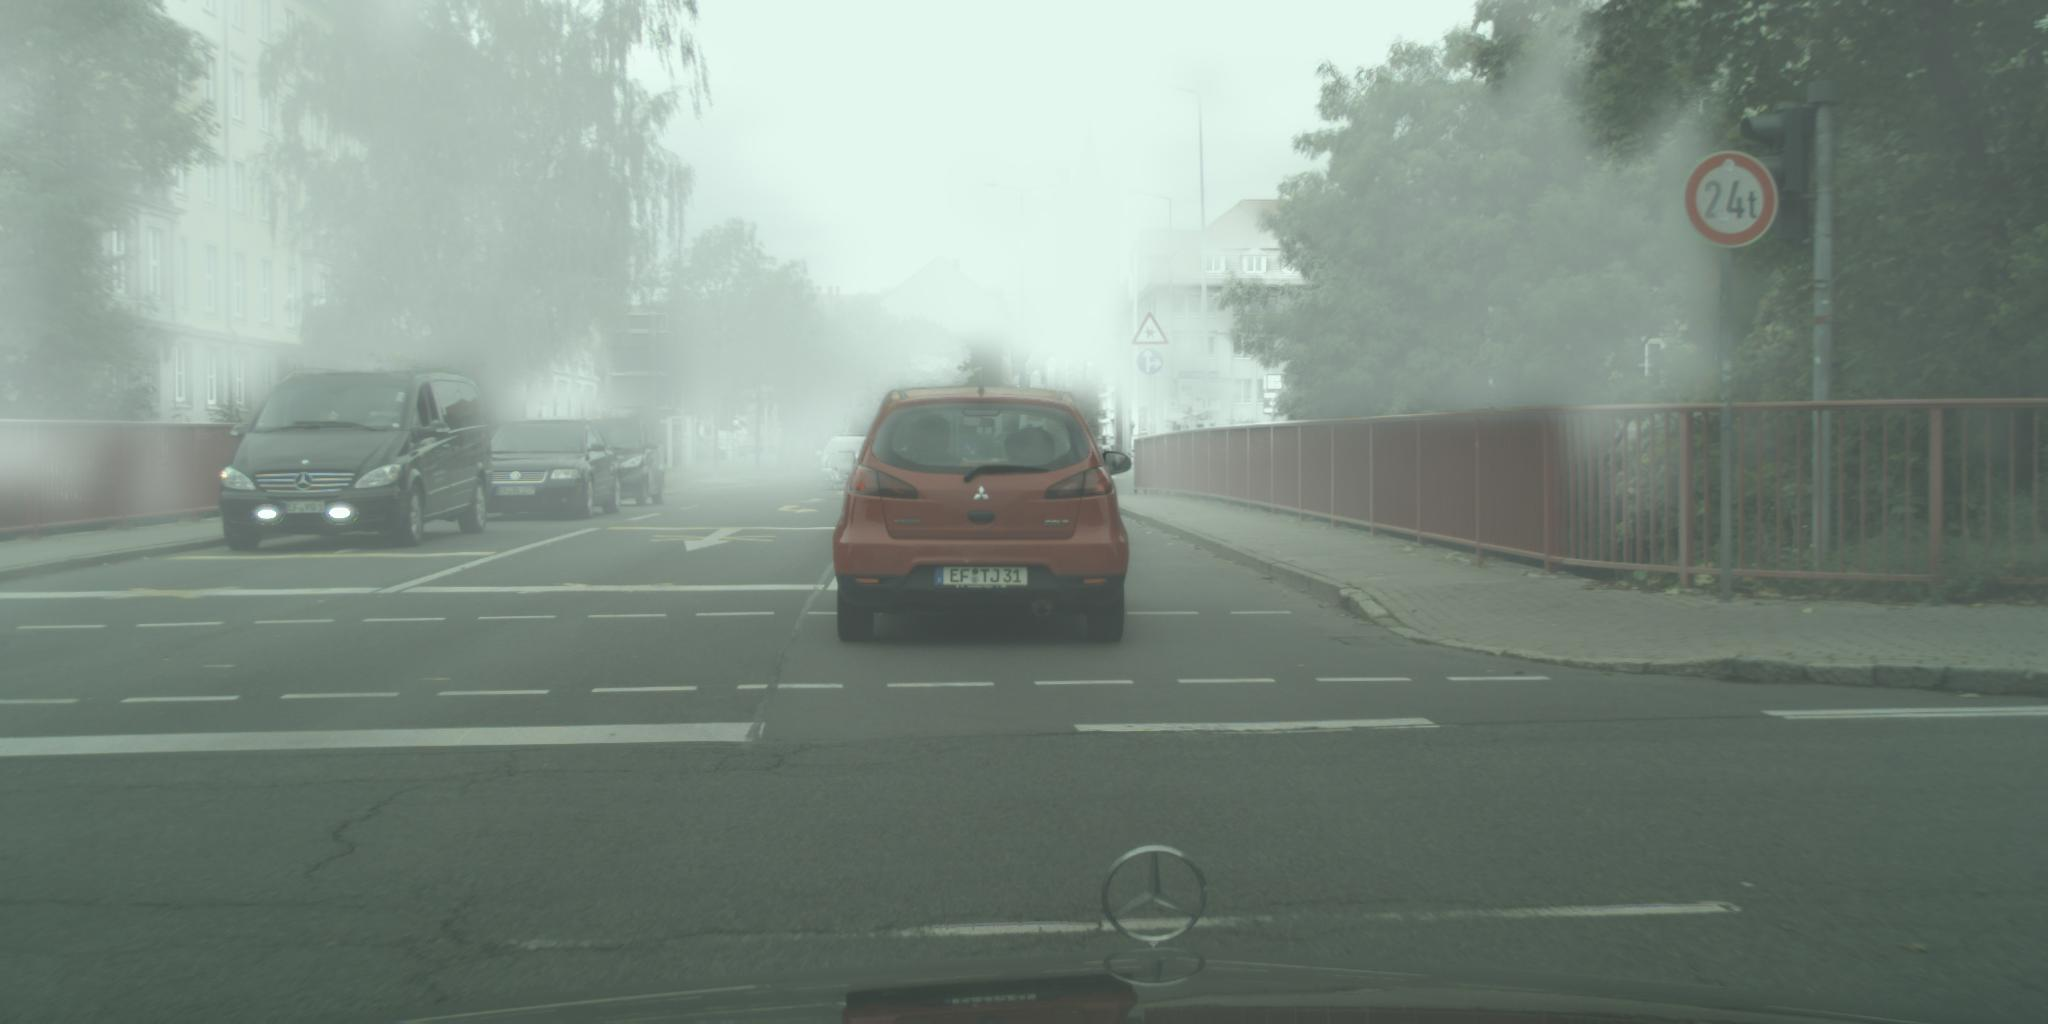car: (825, 387, 1132, 644), (221, 367, 492, 552), (469, 418, 624, 520), (575, 418, 667, 508), (814, 435, 878, 492)
